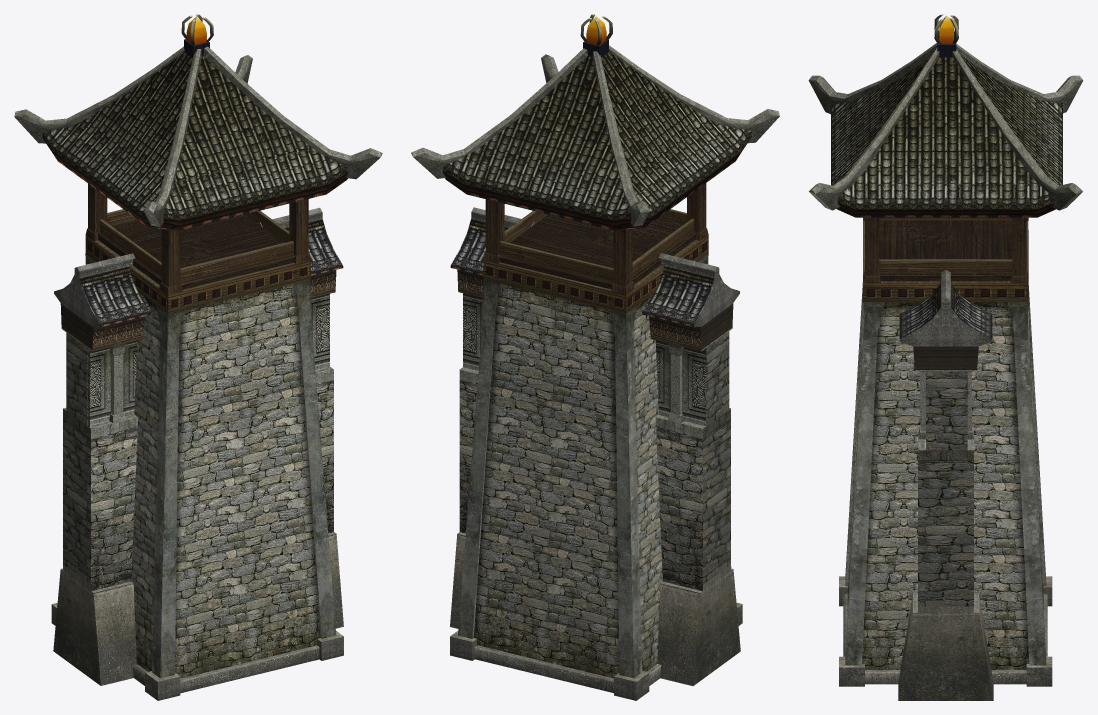
The model's file is b1-middledam-07.fbx.
3 renders of one model, left to right at view 1: azimuth 30°, elevation 25°; view 2: azimuth 150°, elevation 25°; view 3: azimuth 270°, elevation 25°, orthographic.
Parts seen in each view (by area): view 1: b1-middledam-03, b1-middledam-02, b1-middledam-04; view 2: b1-middledam-03, b1-middledam-02, b1-middledam-04; view 3: b1-middledam-03, b1-middledam-02, b1-middledam-04.
Part boxes in pixels (<box>): b1-middledam-03: <box>42,14,347,700</box>; b1-middledam-02: <box>53,207,343,685</box>; b1-middledam-04: <box>14,46,382,314</box>; b1-middledam-03: <box>442,14,751,700</box>; b1-middledam-02: <box>450,207,740,685</box>; b1-middledam-04: <box>411,45,779,313</box>; b1-middledam-03: <box>831,14,1062,686</box>; b1-middledam-02: <box>898,270,993,700</box>; b1-middledam-04: <box>808,43,1083,302</box>.
Bounding box in the file's own units: 5.02 × 12.29 × 4.9.
